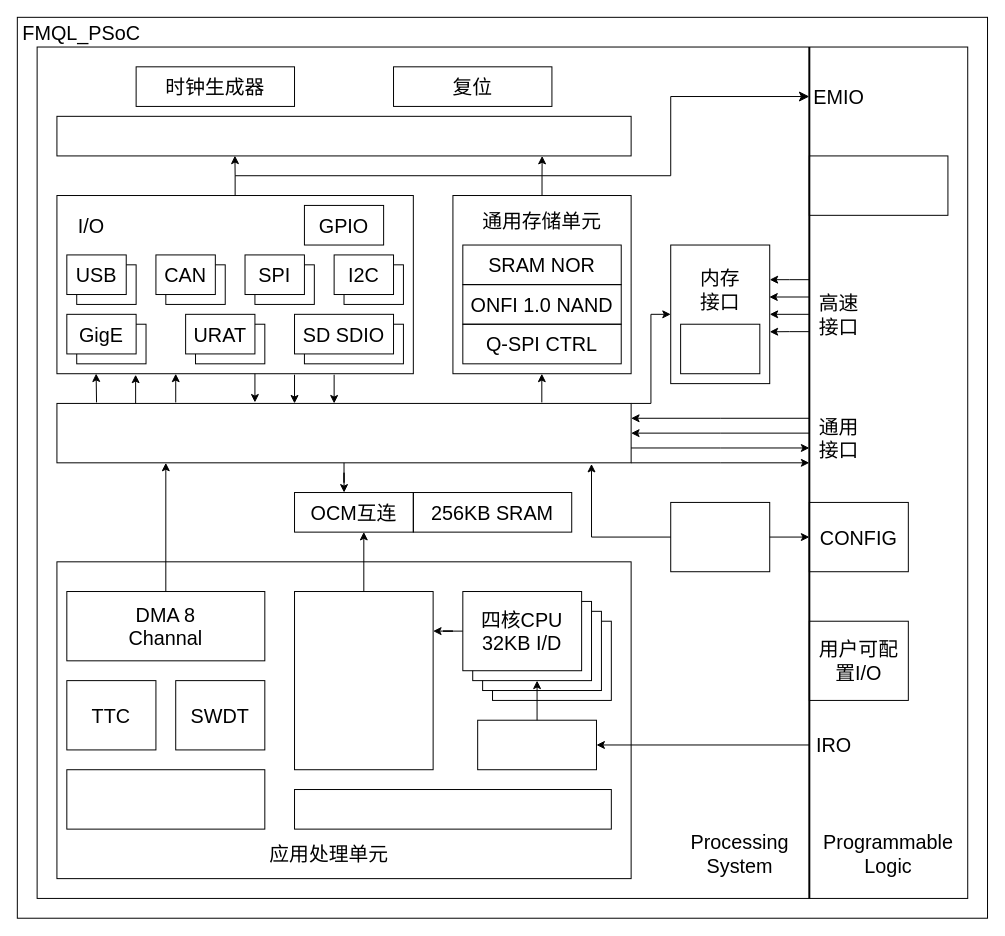
Some shapes in this 1005 by 936 pixel diagram are drawn without their labels. Here are the shapes that lost their labels. From the top down, the centre of each, then its label:
At point (343, 135): "MIO".
At point (878, 185): "ADC 12 bit ADC".
At point (720, 348): "DDR3 控制器".
At point (343, 432): "中央互连".
At point (720, 536): "CSU".
At point (363, 680): "Snoop 控制器 AWDT 计时器".
At point (536, 744): "GIC".
At point (165, 799): "系统级控制寄存器".
At point (452, 809): "256KB L2 Cache 和控制器".
